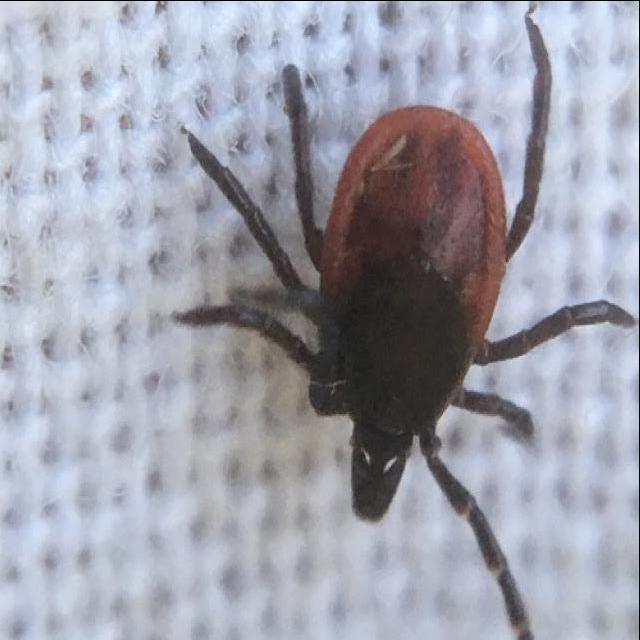Ixodes Ricinus-F: (173, 12, 636, 640)
